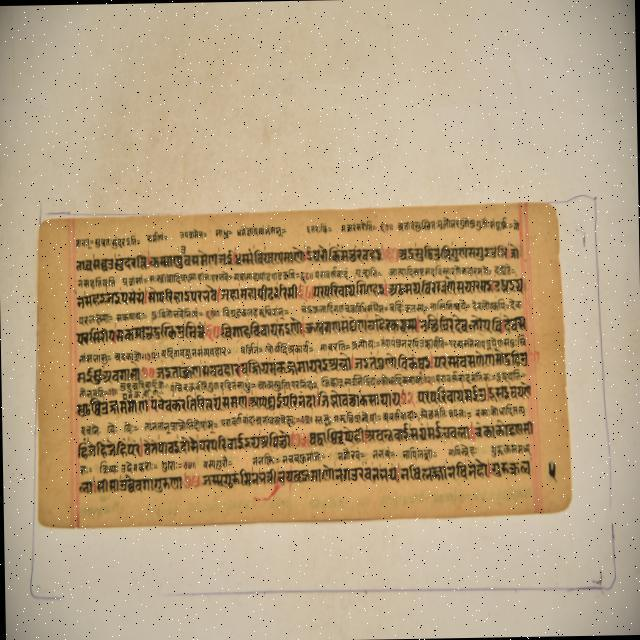text_paragraph: (39, 204, 570, 522)
